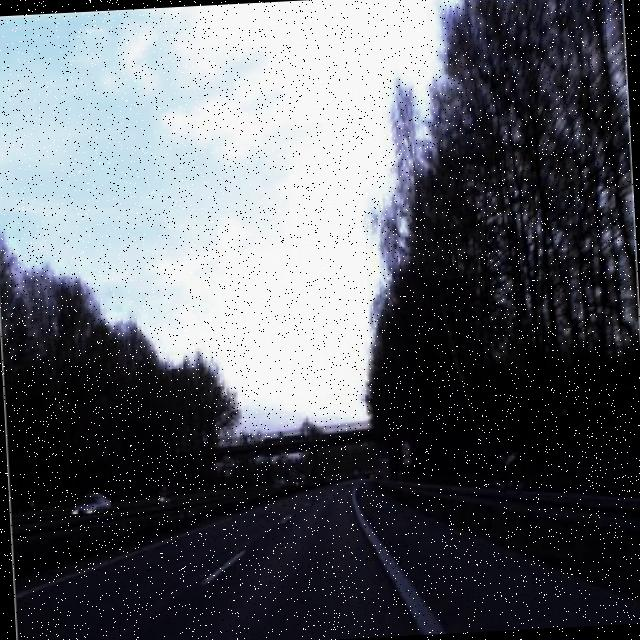Zakaz wyprzedzania: (220, 452, 235, 471), (401, 438, 413, 458)
